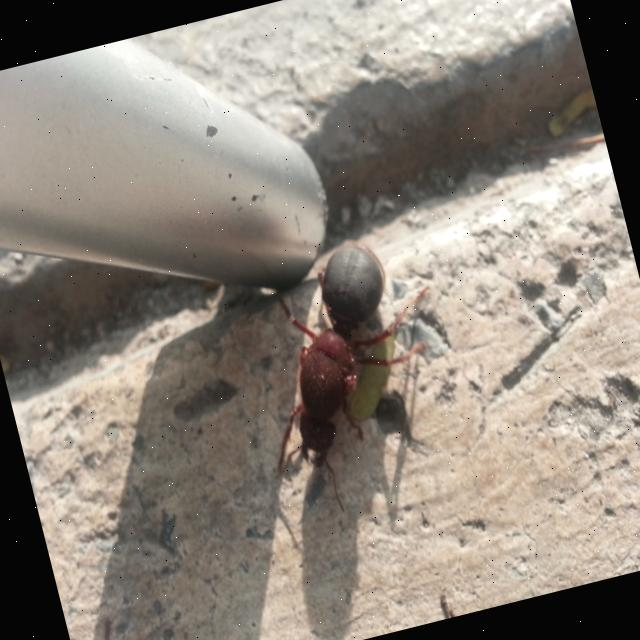Alive-Female-Dealate: (232, 229, 464, 522)
